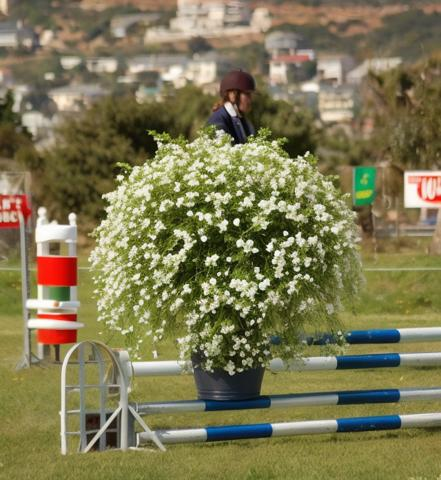person: (185, 69, 272, 295)
pottedplant: (55, 123, 366, 404)
